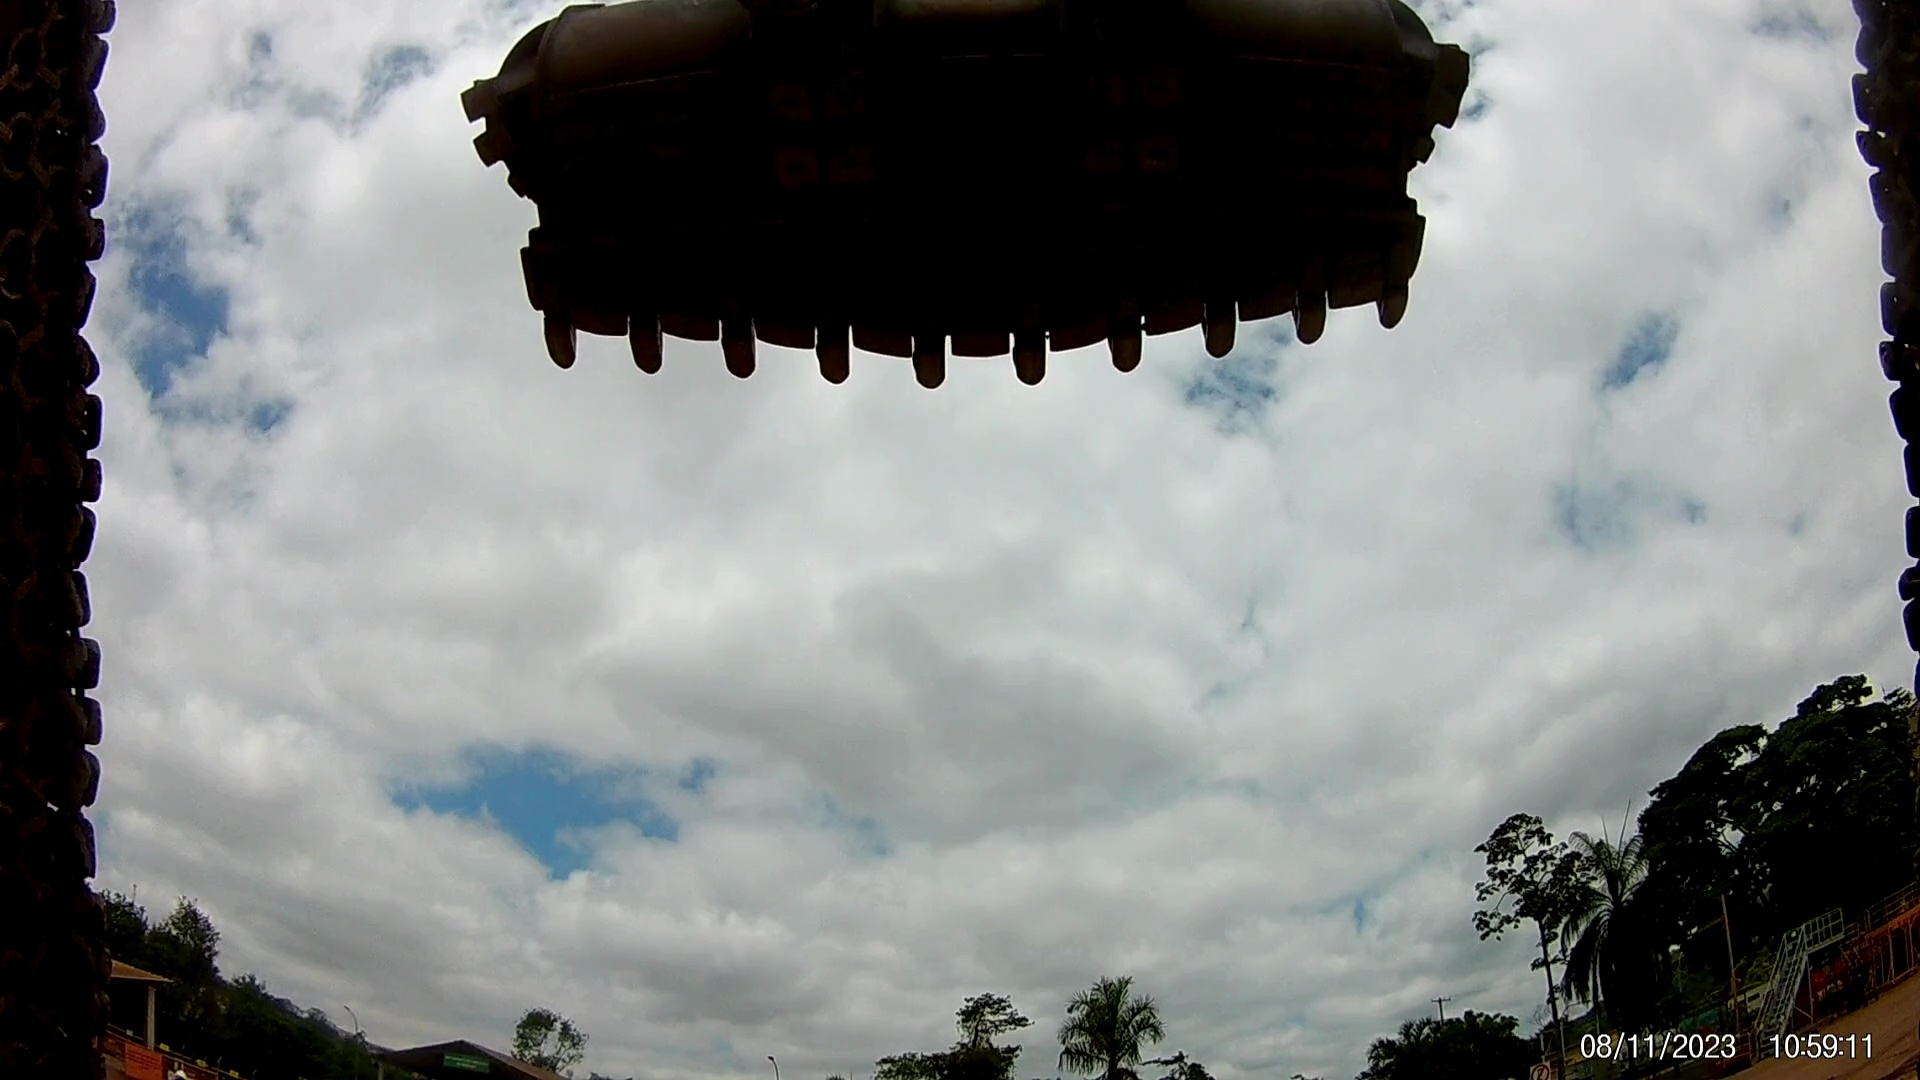FPS: (1000, 305, 1065, 398), (702, 303, 766, 392), (1085, 301, 1158, 378), (796, 322, 868, 398), (1193, 295, 1261, 363), (524, 326, 592, 388), (901, 322, 961, 392), (1373, 284, 1435, 348), (620, 307, 669, 386), (1292, 284, 1338, 348)
